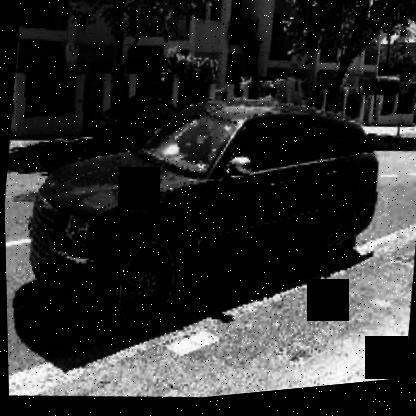not_emergency: (16, 44, 411, 363)
